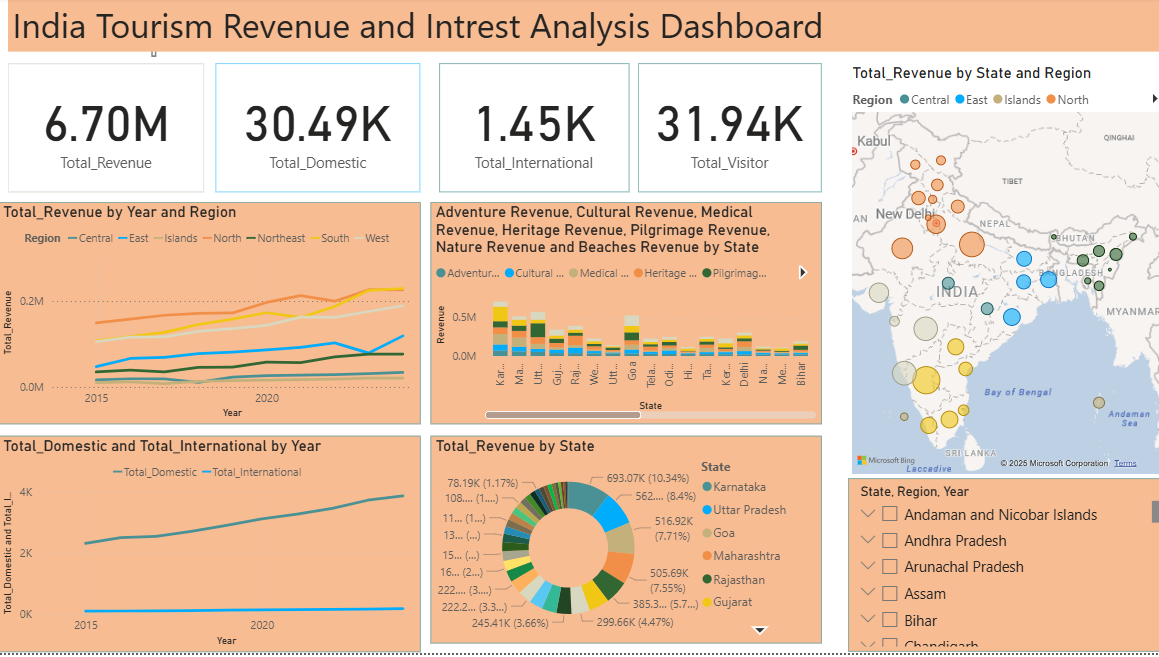

The dashboard page shown, as its layout file describes it:
{"tool":"powerbi","page":{"name":"Page 1","canvas":[1280,720],"ordinal":0},"visuals":[{"type":"card","fields":{"Values":["Tourism_Data.Total_Revenue"]},"box":[11,72.7,215.4,141.3],"z":0},{"type":"card","fields":{"Values":["Tourism_Data.Total_Domestic"]},"box":[238.8,72.7,225,141.3],"z":1000},{"type":"card","fields":{"Values":["Tourism_Data.Total_International"]},"box":[484.4,72.7,208.6,141.3],"z":2000},{"type":"card","fields":{"Values":["Tourism_Data.Total_Visitor"]},"box":[702.6,72.7,201.7,141.3],"z":3000},{"type":"lineChart","fields":{"Category":["Tourism_Data.Year"],"Y":["Tourism_Data.Total_Revenue"],"Series":["Tourism_Data.Region"]},"box":[0,225,463.8,244.3],"z":4000},{"type":"lineChart","fields":{"Category":["Tourism_Data.Year"],"Y":["Tourism_Data.Total_Domestic","Tourism_Data.Total_International"]},"box":[0,481.6,463.8,237.4],"z":5000},{"type":"columnChart","fields":{"Category":["Tourism_Data.State"],"Y":["Tourism_Data.Adventure Revenue","Tourism_Data.Cultural Revenue","Tourism_Data.Medical Revenue","Tourism_Data.Heritage Revenue","Tourism_Data.Pilgrimage Revenue","Tourism_Data.Nature Revenue","Tourism_Data.Beaches Revenue"]},"box":[474.8,225,429.5,244.3],"z":6000},{"type":"map","fields":{"Category":["Tourism_Data.State"],"Series":["Tourism_Data.Region"],"Size":["Tourism_Data.Total_Revenue"]},"box":[933.1,72.7,347.2,455.6],"z":7000},{"type":"slicer","fields":{"Values":["Tourism_Data.State","Tourism_Data.Region","Tourism_Data.Year"]},"box":[933.1,528.3,347.2,190.7],"z":8000},{"type":"donutChart","fields":{"Category":["Tourism_Data.State"],"Y":["Tourism_Data.Total_Revenue"]},"box":[474.8,481.6,429.5,227.8],"z":9000},{"type":"textbox","box":[11,0,1269.3,60.4],"z":10000}]}

Visuals, with their boxes in screenshot pixels (x1, y1, x2, y2), scaled from the page's 1280x720 canvas onto the 1159x657 screenshot:
card - Tourism_Data.Total_Revenue: (10,66,205,195)
card - Tourism_Data.Total_Domestic: (216,66,420,195)
card - Tourism_Data.Total_International: (439,66,627,195)
card - Tourism_Data.Total_Visitor: (636,66,819,195)
lineChart - Tourism_Data.Year x Tourism_Data.Total_Revenue: (0,205,420,428)
lineChart - Tourism_Data.Year x Tourism_Data.Total_Domestic: (0,439,420,656)
columnChart - Tourism_Data.State x Tourism_Data.Adventure Revenue: (430,205,819,428)
map - Tourism_Data.State x Tourism_Data.Region: (845,66,1158,482)
slicer - Tourism_Data.State x Tourism_Data.Region: (845,482,1158,656)
donutChart - Tourism_Data.State x Tourism_Data.Total_Revenue: (430,439,819,647)
textbox: (10,0,1158,55)
